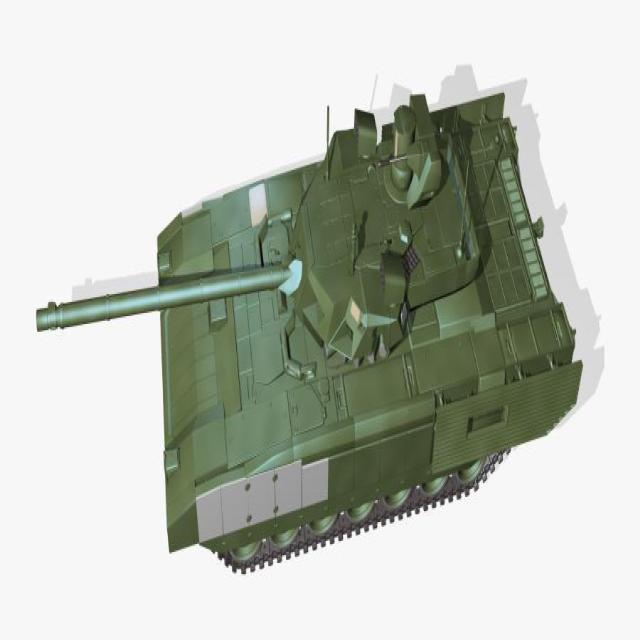MIL_MBT: (105, 97, 570, 514)
